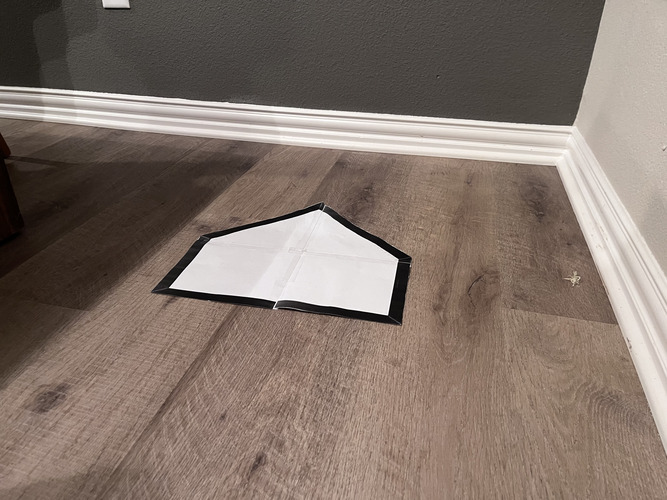homeplate: (150, 202, 412, 326)
